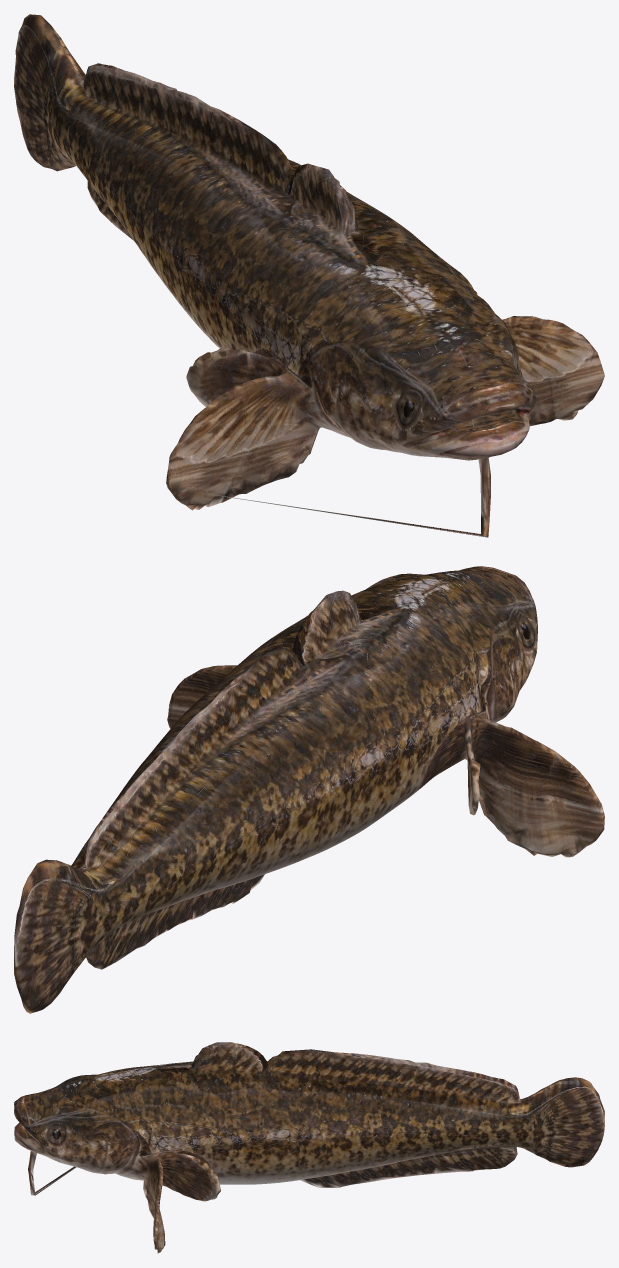
File: fish_burbot.glb
3 renders of one model, top to bottom at view 1: azimuth 30°, elevation 25°; view 2: azimuth 150°, elevation 25°; view 3: azimuth 270°, elevation 25°, orthographic. The views are drawn at different scales.
Parts seen in each view (by area): view 1: geometry_0; view 2: geometry_0; view 3: geometry_0.
Part boxes in pixels (x1=…): geometry_0: x1=14, y1=14, x2=604, y2=537; geometry_0: x1=14, y1=566, x2=604, y2=1013; geometry_0: x1=14, y1=1042, x2=604, y2=1253.
Bounding box in the file's own units: 1.02 × 0.574 × 1.96.
Materials: 1 (1 with a texture image).
